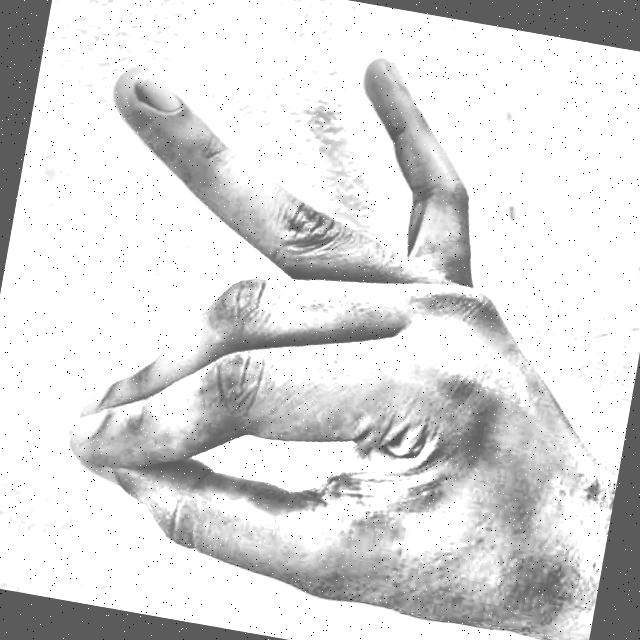Na: (10, 0, 640, 640)
